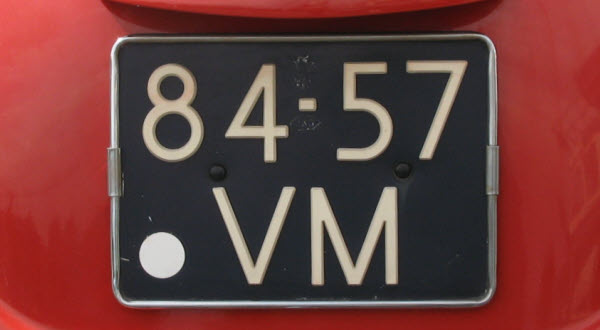license_plate: (110, 34, 497, 306)
